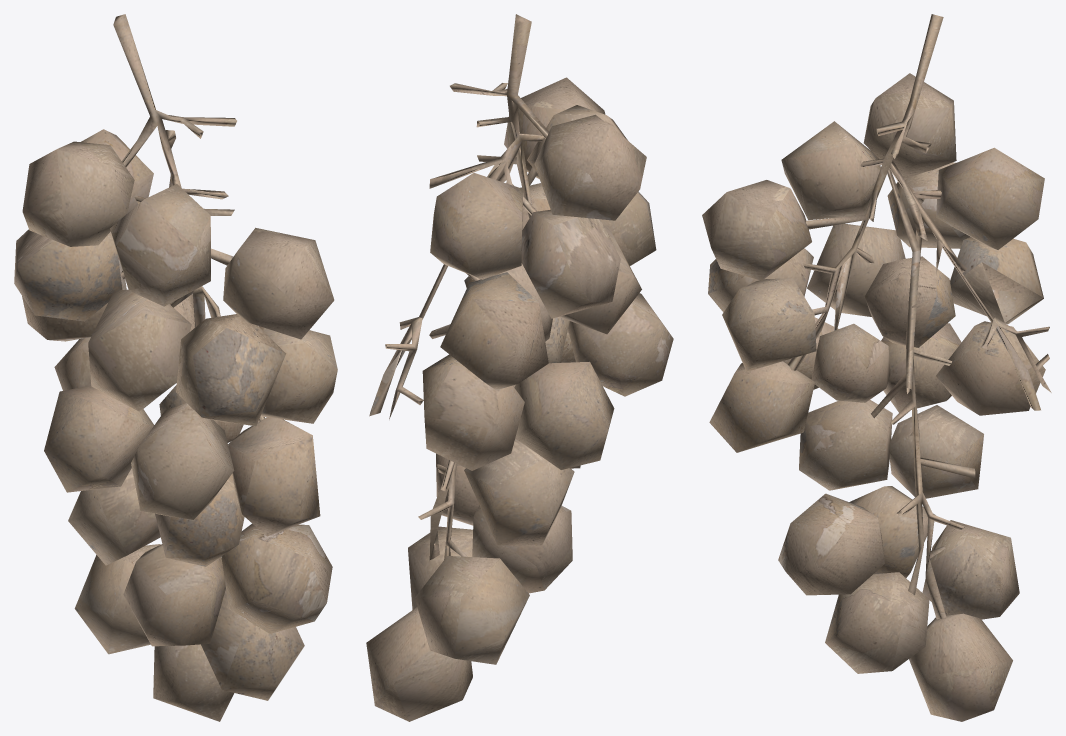
The model's file is Grape-L.fbx.
3 views of the same model, side by side, from view 1: azimuth 30°, elevation 25°; view 2: azimuth 150°, elevation 25°; view 3: azimuth 270°, elevation 25° (orthographic). The views are drawn at different scales.
Parts seen in each view (by area): view 1: Grapes-L; view 2: Grapes-L; view 3: Grapes-L.
Part boxes in pixels (box(x1,y1,x2,y2)): Grapes-L: box(14, 14, 337, 721); Grapes-L: box(366, 14, 673, 721); Grapes-L: box(702, 14, 1051, 721).
Bounding box in the file's own units: 6 × 16.17 × 7.78.
